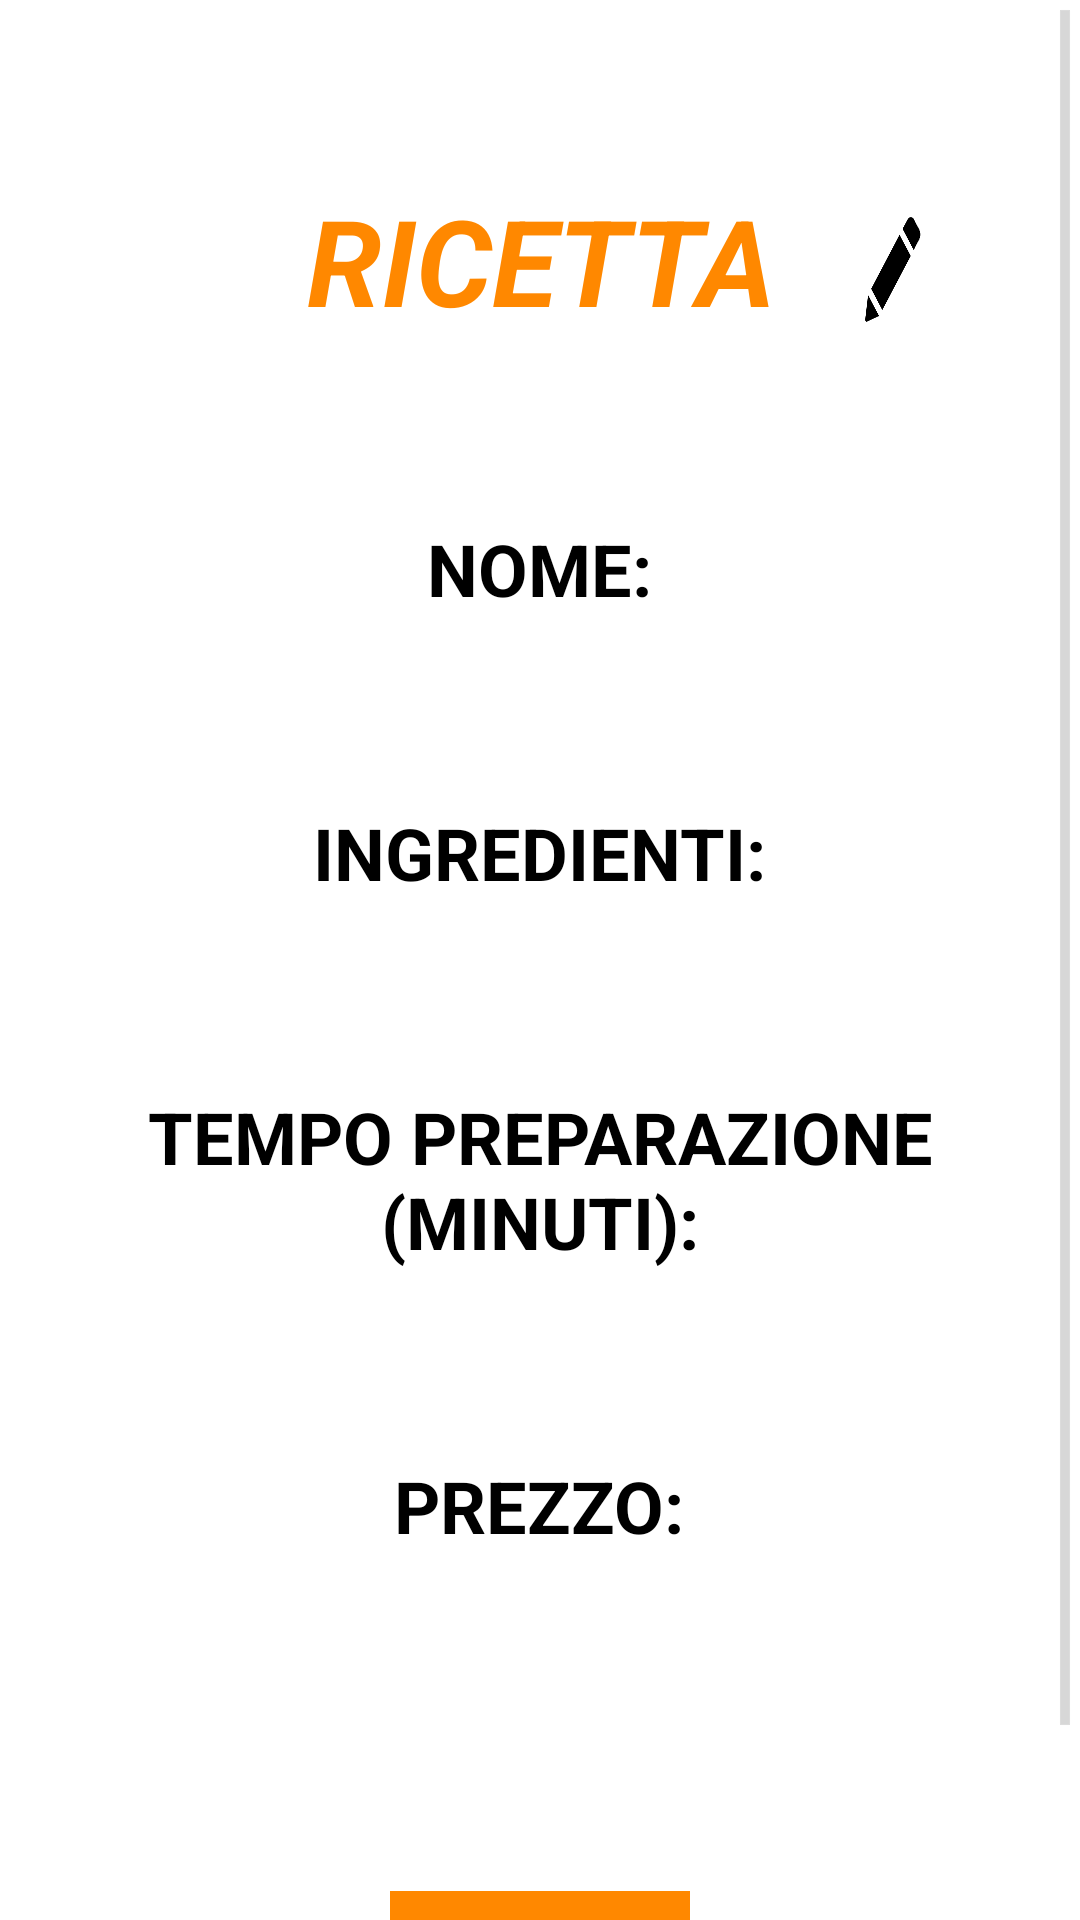

Named icons in this screenshot (1080 × 1920) and their bounding boxes, (x1, y1, x2, y2):
modifica: (865, 217, 921, 322)
